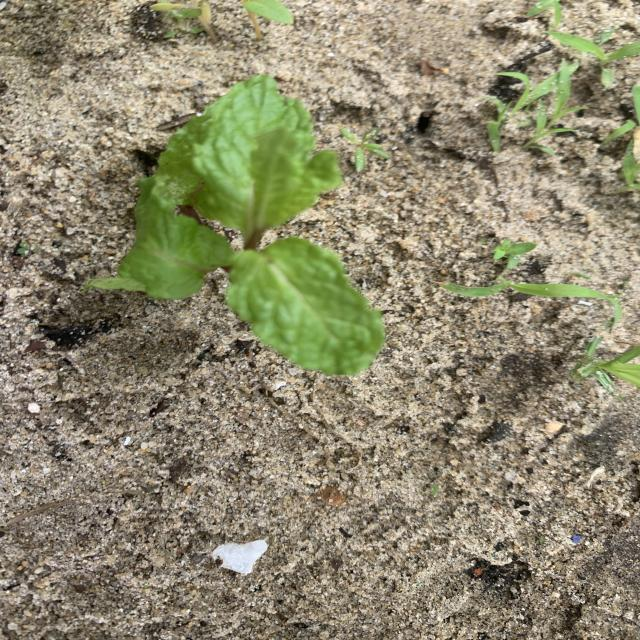crop: (87, 75, 385, 375)
weed: (441, 276, 622, 328), (549, 31, 640, 88), (601, 85, 640, 193), (573, 338, 640, 400), (523, 96, 584, 156), (487, 72, 532, 152), (150, 0, 218, 43), (339, 127, 390, 173), (241, 0, 294, 40), (490, 239, 537, 267), (16, 241, 40, 256)
